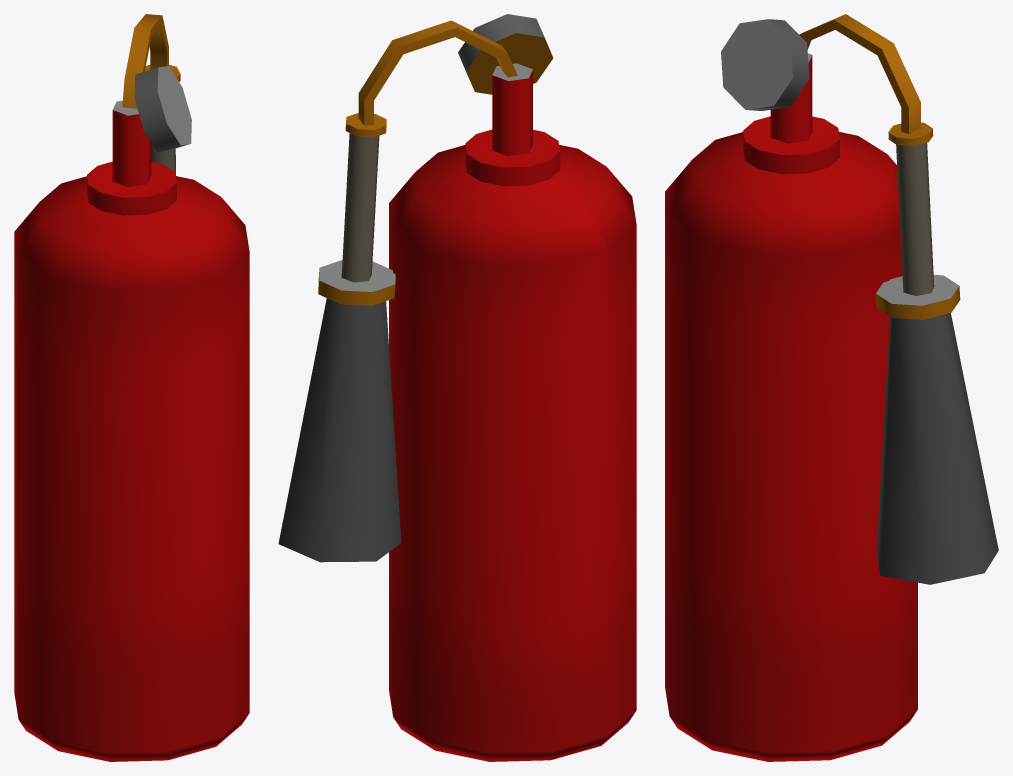
The model's file is env_fireExtinguisher.fbx.
The picture shows the model from 3 angles, left to right: view 1: azimuth 30°, elevation 25°; view 2: azimuth 150°, elevation 25°; view 3: azimuth 270°, elevation 25°; orthographic projection. The views are drawn at different scales.
Parts seen in each view (by area): view 1: fireExtinguisher; view 2: fireExtinguisher; view 3: fireExtinguisher.
Boxes of the visible parts, x1,y1,x2,y2 form: fireExtinguisher: (14,14,249,761); fireExtinguisher: (278,14,636,761); fireExtinguisher: (665,14,998,761).
Size of the model in its own units: 5.59 by 14.04 by 5.96.
